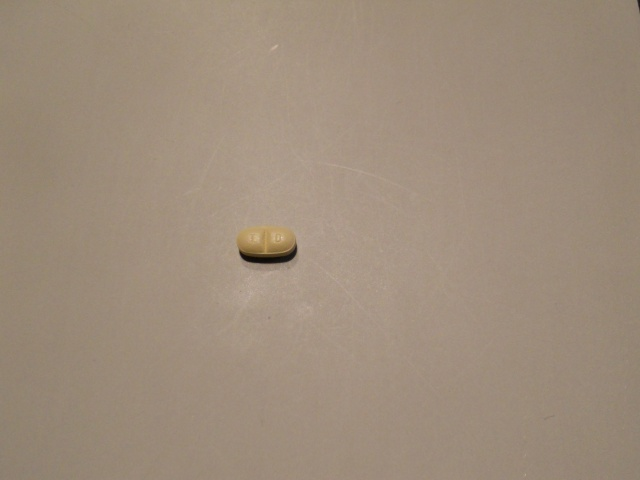B: (274, 232, 281, 243)
T: (247, 232, 258, 245)
|: (260, 227, 272, 254)
